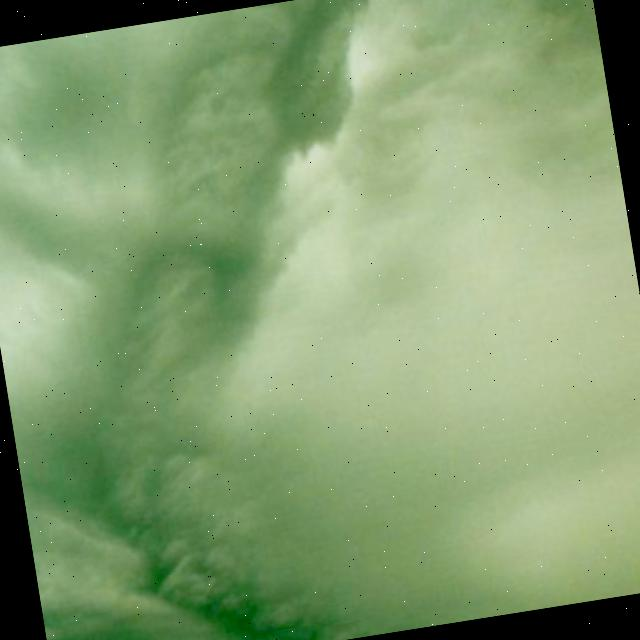Ns: (1, 9, 640, 640)
